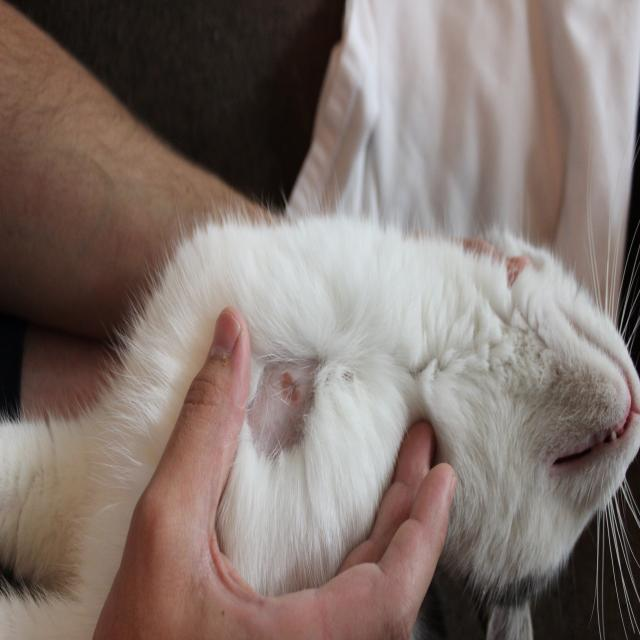hac lao: (224, 328, 366, 463)
